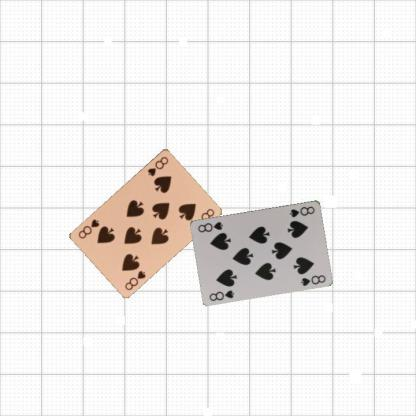8s: (122, 268, 147, 291), (145, 154, 169, 177), (207, 287, 236, 302), (287, 204, 316, 218)
